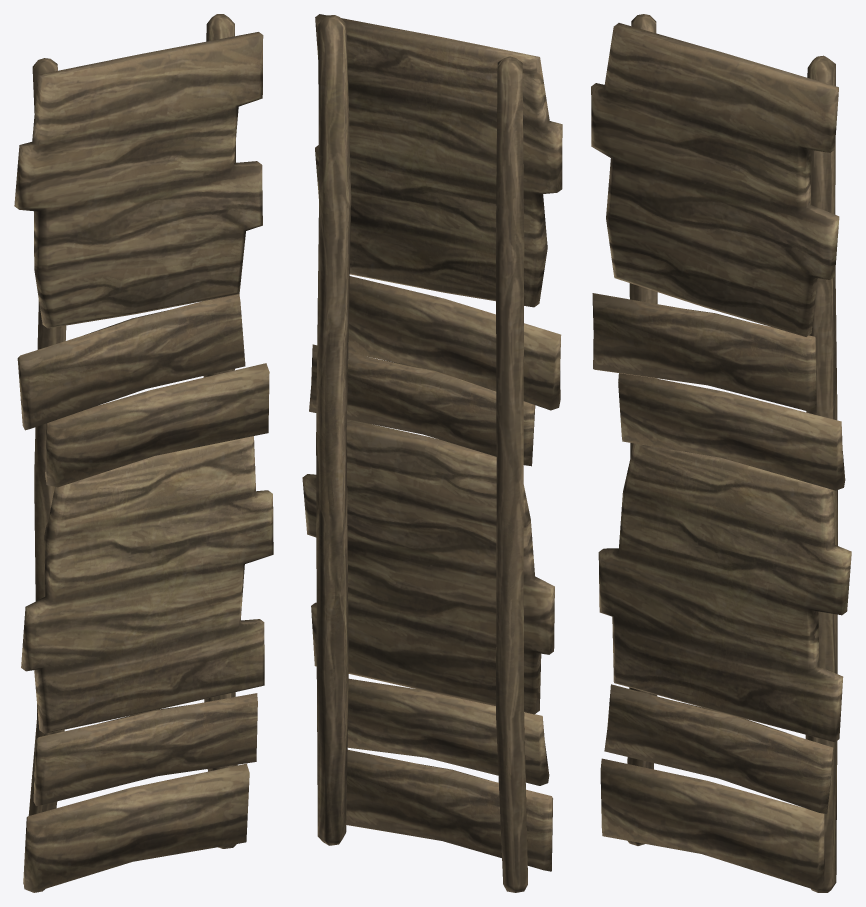
The model's file is beach ramp.FBX.
3 views of the same model, side by side, from view 1: azimuth 30°, elevation 25°; view 2: azimuth 150°, elevation 25°; view 3: azimuth 330°, elevation 25° (orthographic).
Visible parts, largest first — view 1: beach ramp; view 2: beach ramp; view 3: beach ramp.
Part boxes in pixels (box(x1,y1,x2,y2)): beach ramp: box(14, 14, 273, 892); beach ramp: box(302, 14, 562, 892); beach ramp: box(591, 14, 851, 892).
Size of the model in its own units: 1.75 by 5.45 by 0.3459.
